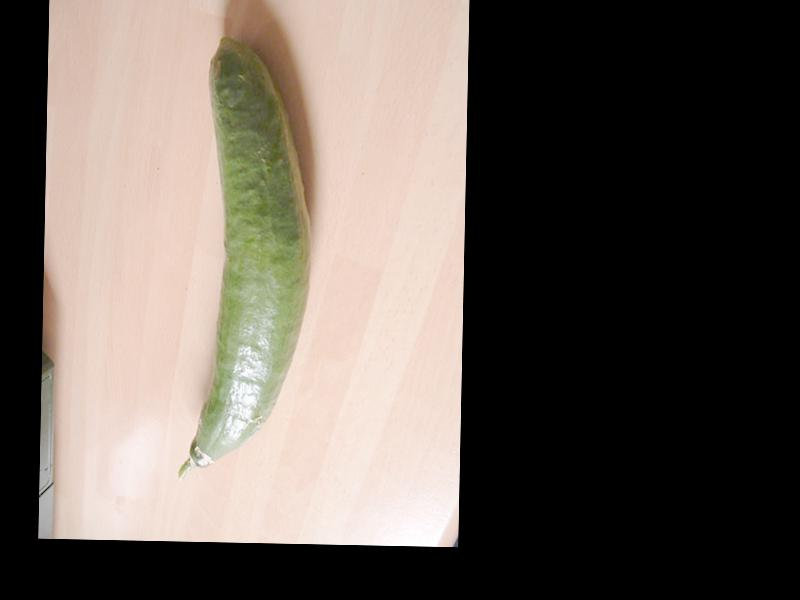Cucumber: (178, 33, 317, 482)
